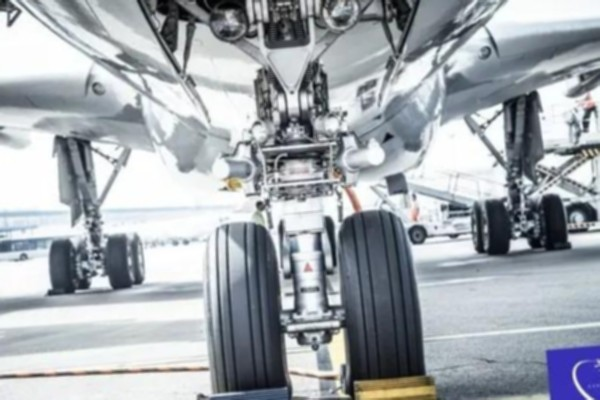chock: (350, 370, 442, 400), (206, 383, 291, 400), (44, 284, 77, 299), (543, 240, 573, 253)
wheel: (334, 207, 432, 399), (196, 218, 295, 400), (523, 191, 571, 251), (471, 196, 514, 256), (47, 236, 88, 295), (106, 230, 147, 288), (69, 238, 96, 290), (523, 196, 546, 249), (126, 231, 148, 284), (563, 200, 598, 233), (322, 213, 340, 271), (469, 201, 489, 253), (277, 217, 293, 274), (408, 223, 428, 244)
